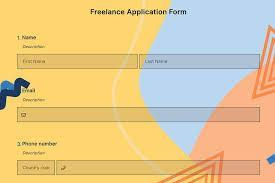input: (18, 108, 261, 123), (57, 161, 260, 175), (18, 55, 139, 70), (141, 55, 261, 70), (18, 161, 56, 176)
label: (89, 5, 192, 18), (18, 140, 62, 149), (16, 34, 42, 43), (13, 88, 40, 96)
